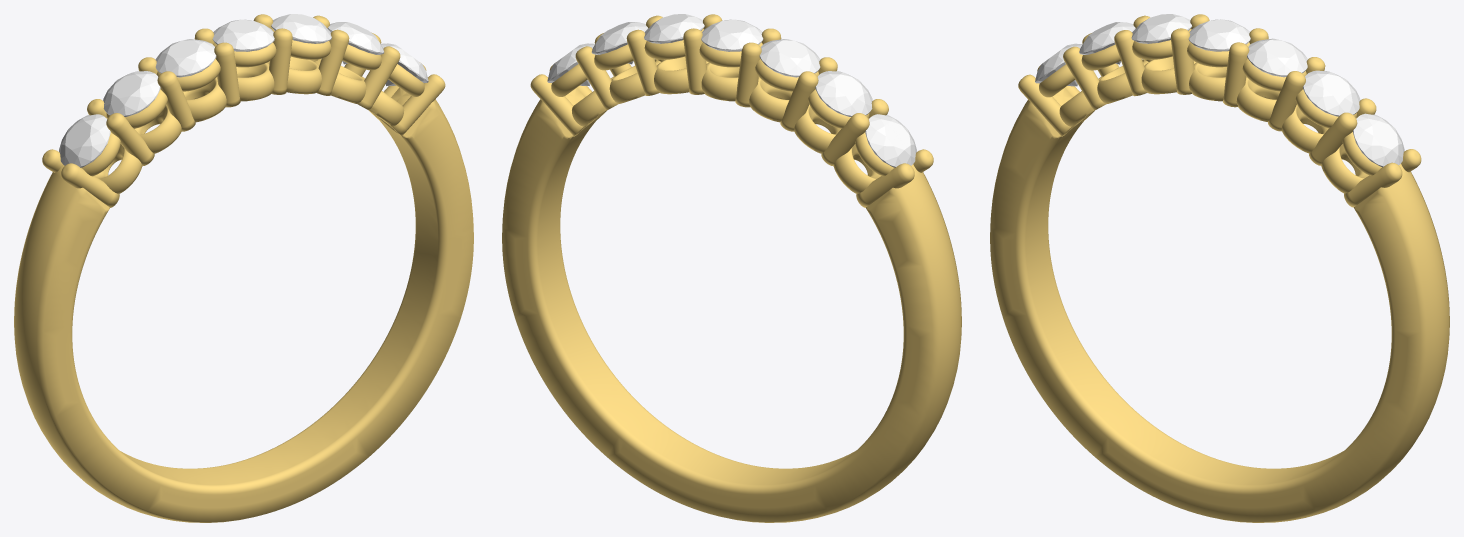
Rendered from Blair7straight_webgi.glb.
The picture shows the model from 3 angles, left to right: view 1: azimuth 30°, elevation 25°; view 2: azimuth 150°, elevation 25°; view 3: azimuth 330°, elevation 25°; orthographic projection.
Visible parts, largest first — view 1: straight_YG_for_3d_model, straight_dia_for_3d_model006, straight_dia_for_3d_model005, straight_dia_for_3d_model004, straight_dia_for_3d_model003, straight_dia_for_3d_model002, straight_dia_for_3d_model001, straight_dia_for_3d_model; view 2: straight_YG_for_3d_model, straight_dia_for_3d_model006, straight_dia_for_3d_model005, straight_dia_for_3d_model004, straight_dia_for_3d_model003, straight_dia_for_3d_model002, straight_dia_for_3d_model001, straight_dia_for_3d_model; view 3: straight_YG_for_3d_model, straight_dia_for_3d_model, straight_dia_for_3d_model001, straight_dia_for_3d_model002, straight_dia_for_3d_model003, straight_dia_for_3d_model004, straight_dia_for_3d_model005, straight_dia_for_3d_model006.
Boxes of the visible parts, x1,y1,x2,y2 form: straight_YG_for_3d_model: [14, 14, 473, 522]; straight_dia_for_3d_model006: [59, 114, 110, 167]; straight_dia_for_3d_model005: [103, 71, 160, 116]; straight_dia_for_3d_model004: [155, 39, 216, 77]; straight_dia_for_3d_model003: [212, 19, 274, 51]; straight_dia_for_3d_model002: [271, 14, 331, 43]; straight_dia_for_3d_model001: [327, 22, 384, 64]; straight_dia_for_3d_model: [381, 43, 428, 85]; straight_YG_for_3d_model: [502, 14, 961, 522]; straight_dia_for_3d_model006: [865, 114, 916, 167]; straight_dia_for_3d_model005: [815, 71, 872, 116]; straight_dia_for_3d_model004: [759, 39, 820, 77]; straight_dia_for_3d_model003: [701, 19, 763, 51]; straight_dia_for_3d_model002: [644, 14, 704, 43]; straight_dia_for_3d_model001: [591, 22, 648, 64]; straight_dia_for_3d_model: [547, 43, 594, 85]; straight_YG_for_3d_model: [990, 14, 1449, 522]; straight_dia_for_3d_model: [1353, 113, 1404, 167]; straight_dia_for_3d_model001: [1303, 70, 1360, 116]; straight_dia_for_3d_model002: [1247, 38, 1307, 77]; straight_dia_for_3d_model003: [1188, 19, 1250, 51]; straight_dia_for_3d_model004: [1131, 14, 1192, 43]; straight_dia_for_3d_model005: [1079, 22, 1135, 64]; straight_dia_for_3d_model006: [1035, 43, 1082, 86].
Size of the model in its own units: 2.76 by 2.88 by 0.3639.
